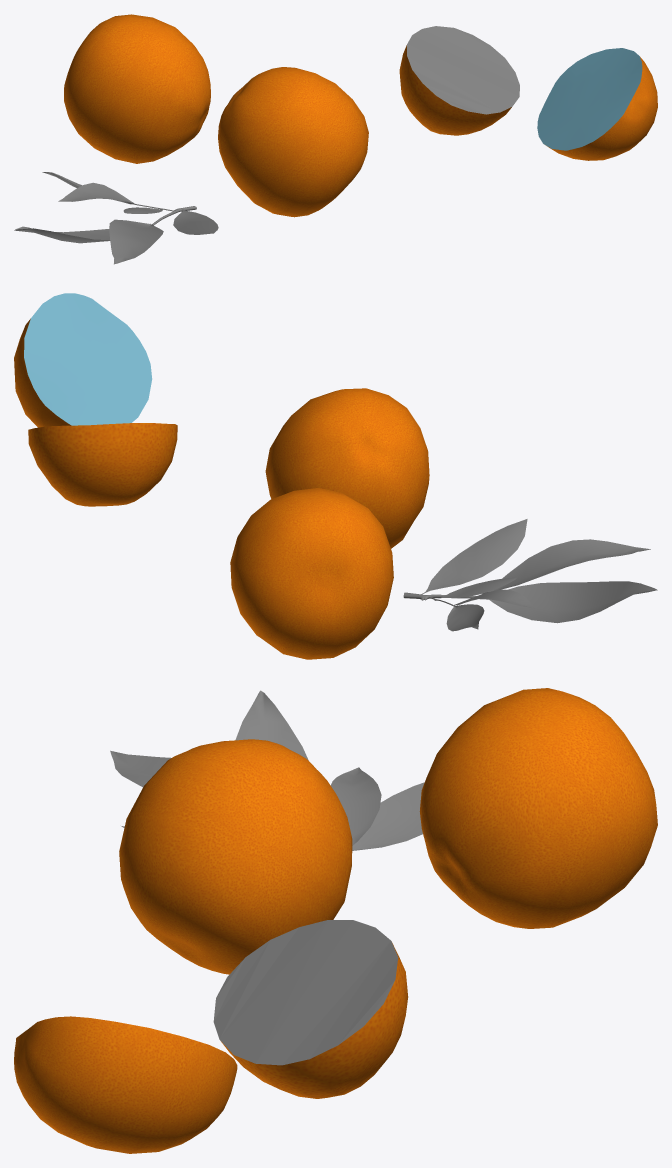
File: orange_lp.FBX
The picture shows the model from 3 angles, top to bottom: view 1: azimuth 30°, elevation 25°; view 2: azimuth 150°, elevation 25°; view 3: azimuth 270°, elevation 25°; orthographic projection. The views are drawn at different scales.
Parts seen in each view (by area): view 1: Orange_012, Orange_006, Orange_011, Orange_004, Shape1; view 2: Orange_006, Orange_012, Orange_011, Shape1, Orange_004; view 3: Orange_006, Orange_012, Orange_004, Orange_011, Shape1.
Part boxes in pixels (bbox=[...]): Orange_012: bbox=[218, 67, 368, 217]; Orange_006: bbox=[64, 14, 210, 163]; Orange_011: bbox=[537, 48, 657, 160]; Orange_004: bbox=[399, 26, 519, 135]; Shape1: bbox=[14, 172, 218, 264]; Orange_006: bbox=[230, 488, 393, 659]; Orange_012: bbox=[265, 388, 429, 548]; Orange_011: bbox=[14, 293, 152, 427]; Shape1: bbox=[403, 519, 657, 631]; Orange_004: bbox=[28, 423, 177, 506]; Orange_006: bbox=[419, 688, 657, 928]; Orange_012: bbox=[119, 739, 352, 974]; Orange_004: bbox=[213, 920, 408, 1098]; Orange_011: bbox=[14, 1016, 237, 1153]; Shape1: bbox=[110, 690, 424, 850].
Bounding box in the file's own units: 8502 × 1903 × 5051.
